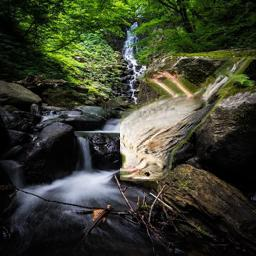Sparrow: (121, 55, 256, 182)
